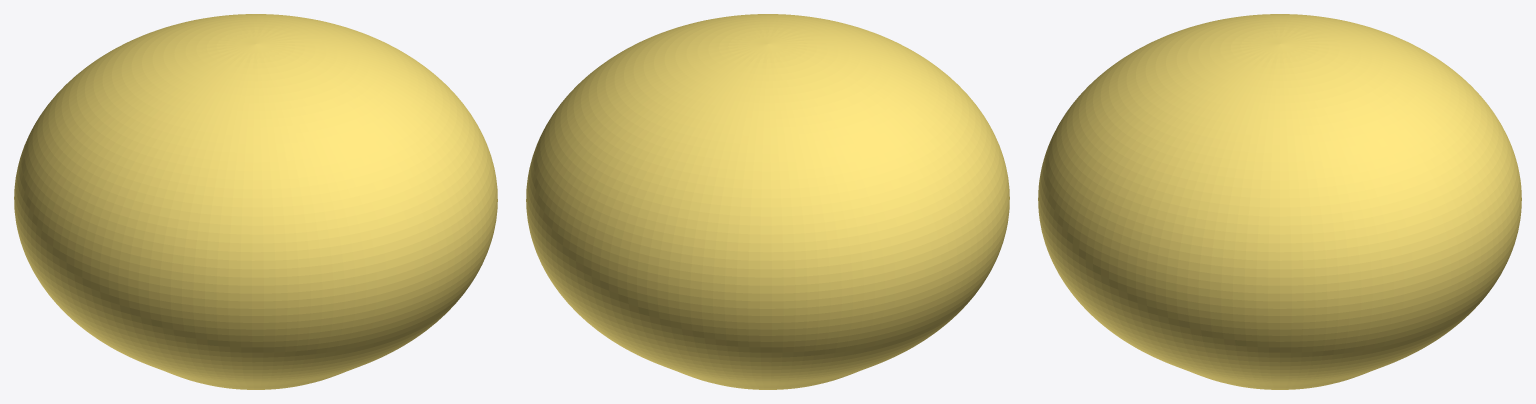
Rendered from Slime_Gold.fbx.
3 renders of one model, left to right at view 1: azimuth 30°, elevation 25°; view 2: azimuth 150°, elevation 25°; view 3: azimuth 270°, elevation 25°, orthographic.
Visible parts, largest first — view 1: Slime_Gold; view 2: Slime_Gold; view 3: Slime_Gold.
Part boxes in pixels (left/top/right/bottom): Slime_Gold: left=14, top=14, right=497, bottom=389; Slime_Gold: left=526, top=14, right=1009, bottom=389; Slime_Gold: left=1038, top=14, right=1521, bottom=389.
Size of the model in its own units: 0.9872 by 0.6992 by 0.9872.
